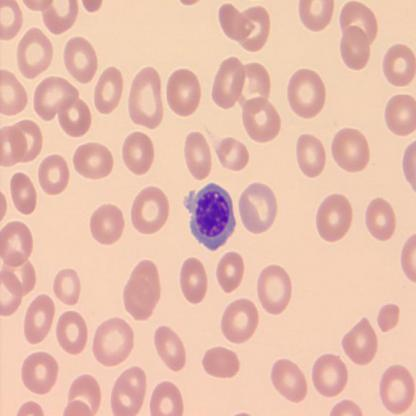NRC: (182, 182, 237, 253)
